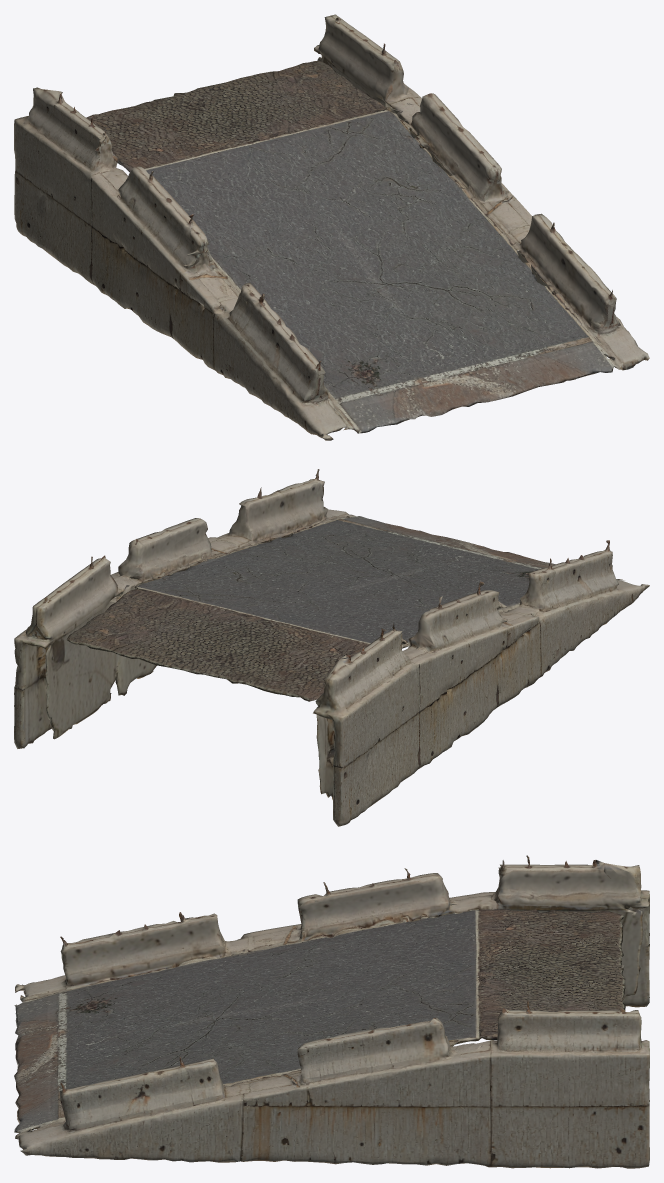
File: Ramp.glb
3 renders of one model, top to bottom at view 1: azimuth 30°, elevation 25°; view 2: azimuth 150°, elevation 25°; view 3: azimuth 270°, elevation 25°, orthographic. The views are drawn at different scales.
Parts seen in each view (by area): view 1: texture_mapping; view 2: texture_mapping; view 3: texture_mapping.
Boxes of the visible parts, box(x1,y1,x2,y2) form: texture_mapping: box(14, 14, 649, 440); texture_mapping: box(14, 469, 649, 826); texture_mapping: box(14, 855, 649, 1168).
Bounding box in the file's own units: 0.6132 × 0.2753 × 0.9949.
1 material, 1 textured.
